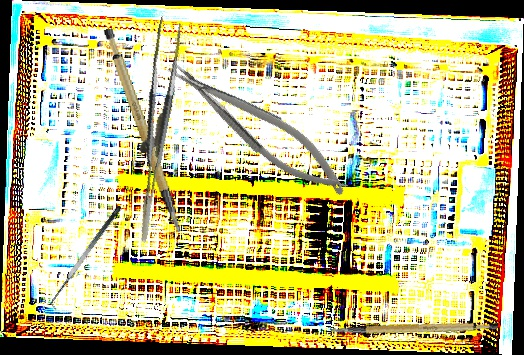Needle Holder: (161, 43, 357, 211)
Scalpel Handle: (100, 22, 183, 240), (330, 300, 499, 353)
Spatula Surgical: (44, 204, 131, 312)
Tissue Forceps: (103, 16, 204, 243)
